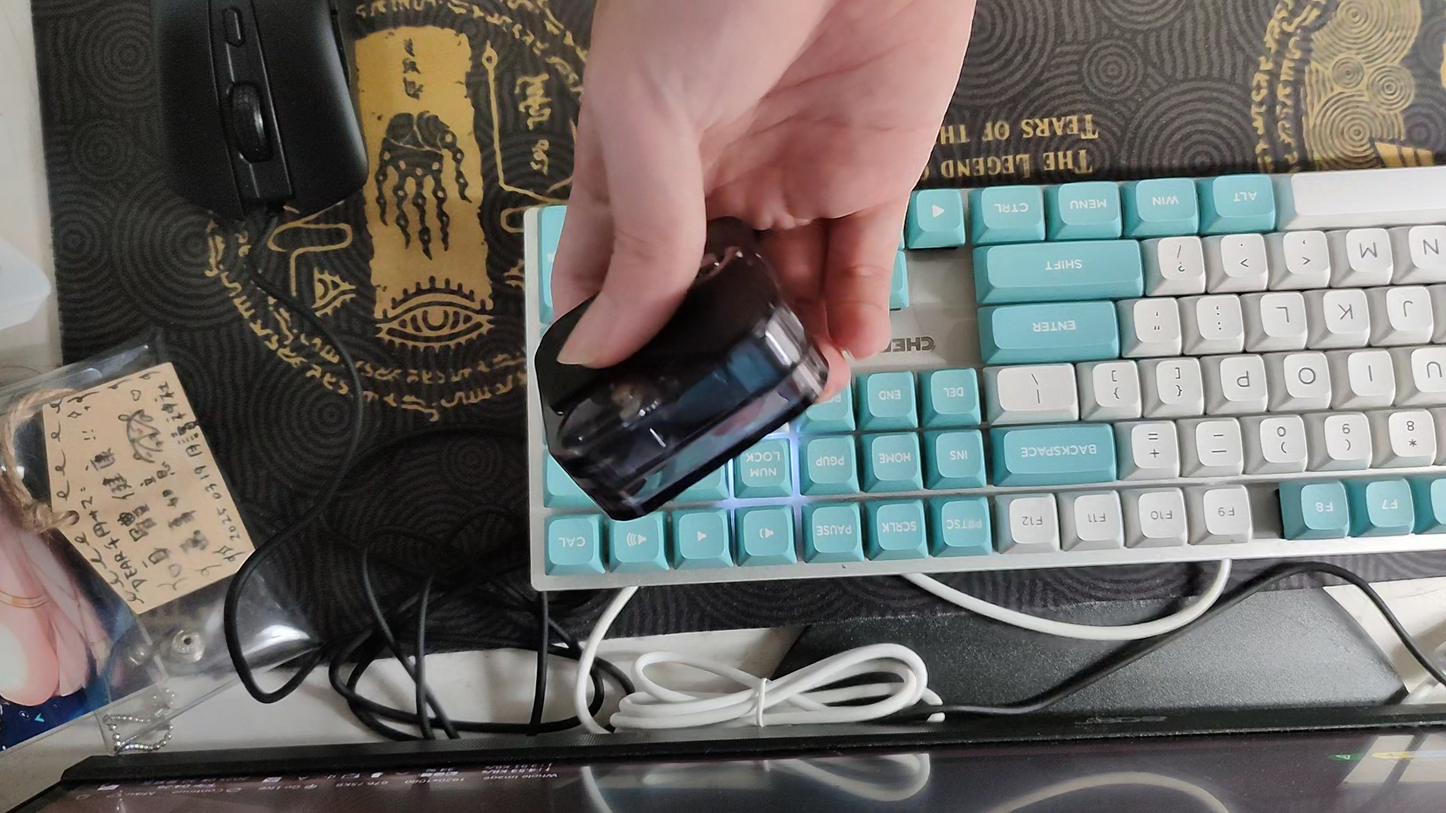Wireless_earphone: (534, 215, 830, 521)
